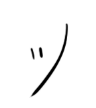tsu: (25, 21, 70, 99)
